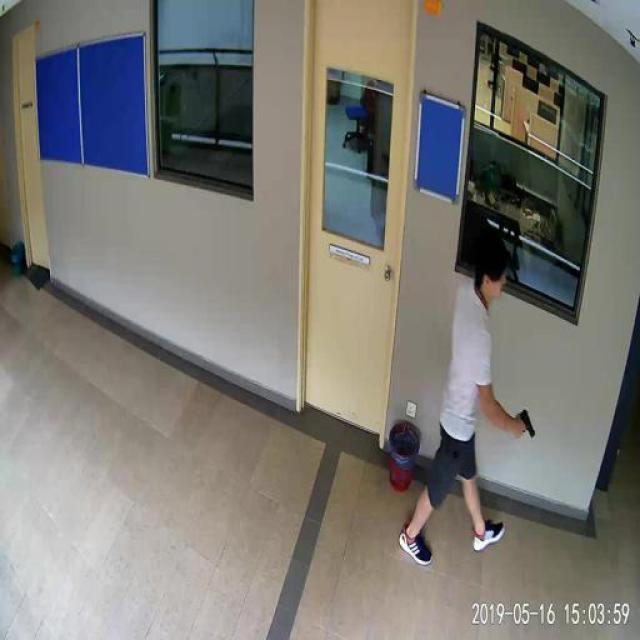weapon: (515, 408, 536, 440)
